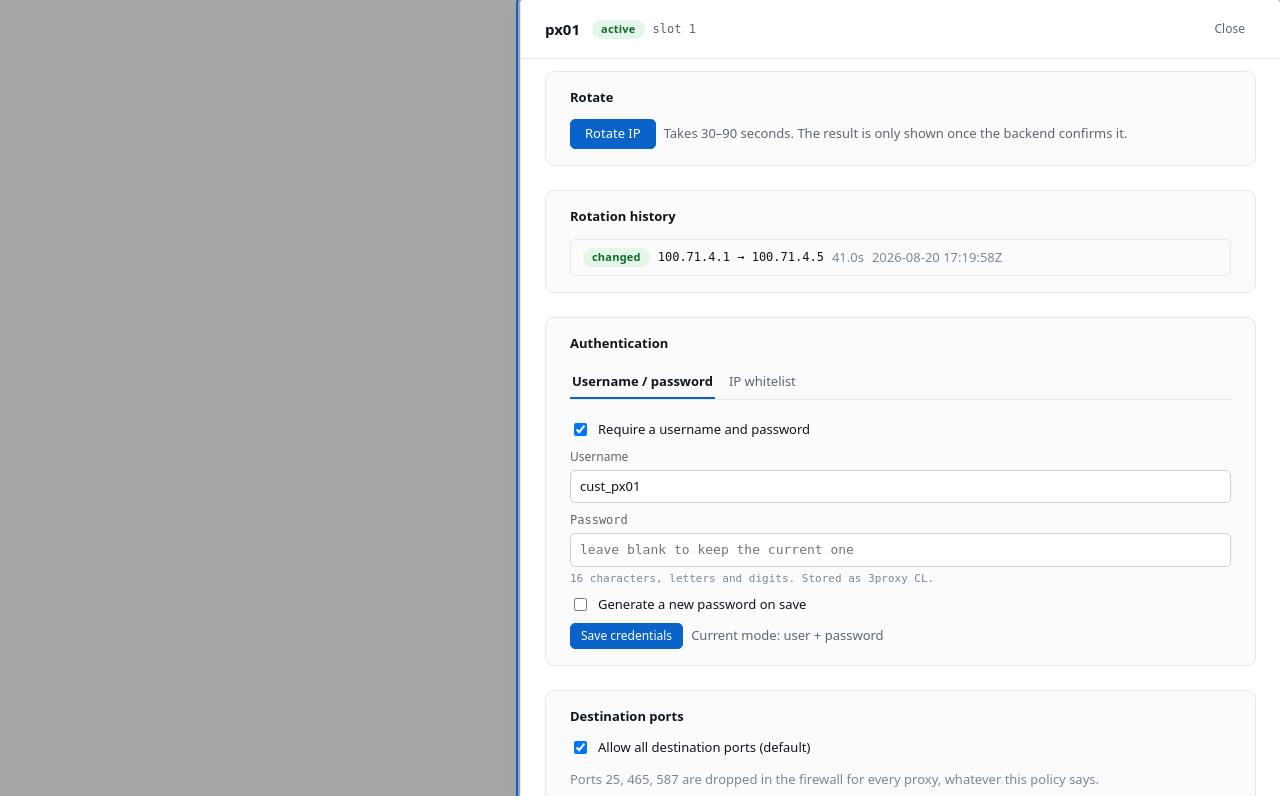
Test case: auth editor — both modes are editable › blocks turning both auth methods off
(page scrolled)
Expected: the tab "Username / password" is shown, [570,366,715,399]
Click the checkbox labelled "Require a username and password" at [580, 430], box [574,423,587,436]
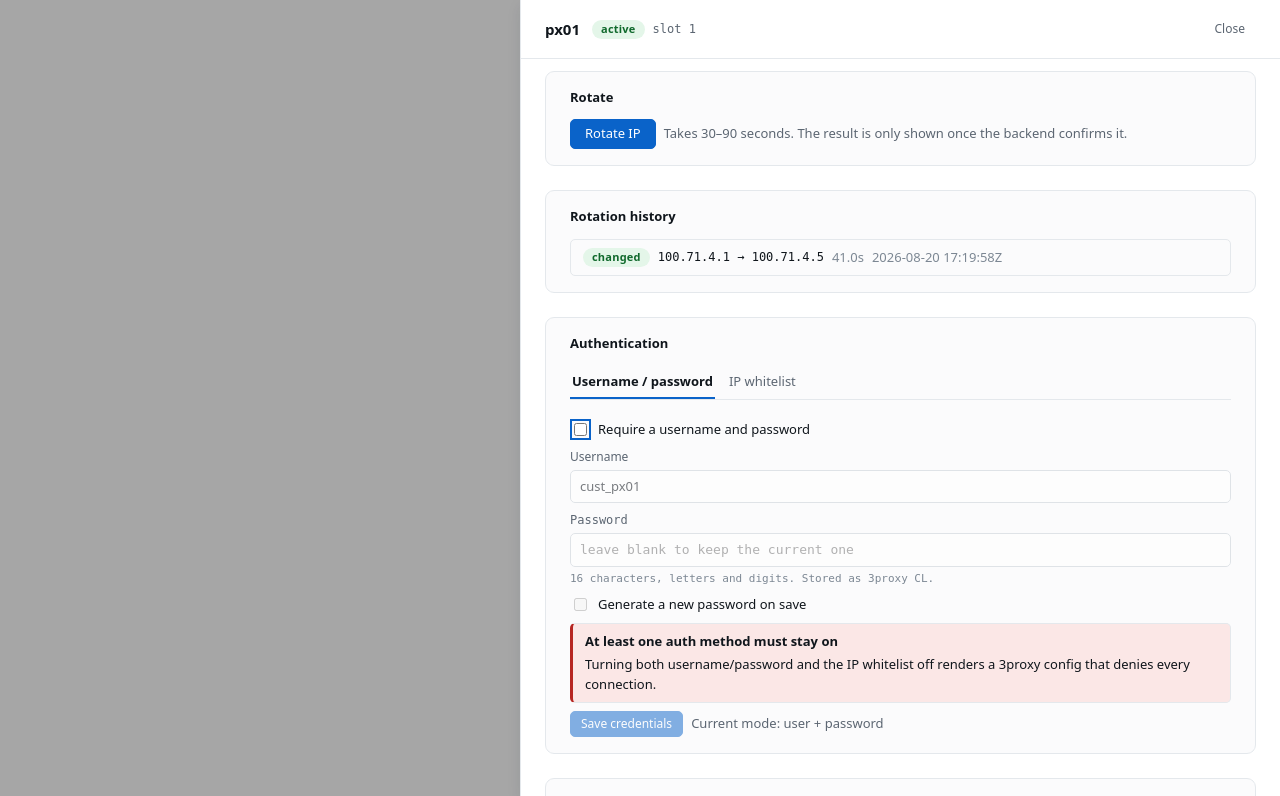
Expected: the text "At least one auth method must stay on" is shown, [585,632,838,650]
Expected: the button "Save credentials" is disabled, [570,711,683,737]
